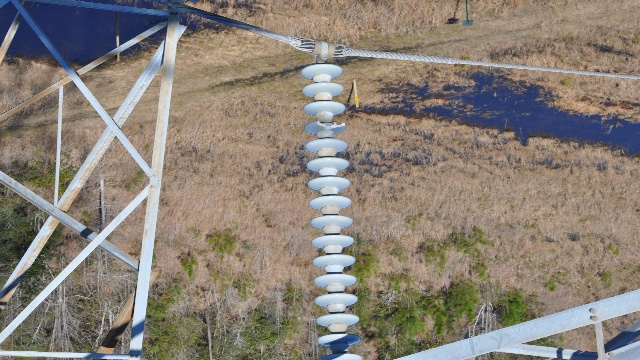broken_local: (314, 118, 346, 130)
insulator_unspecified: (299, 64, 367, 359)
